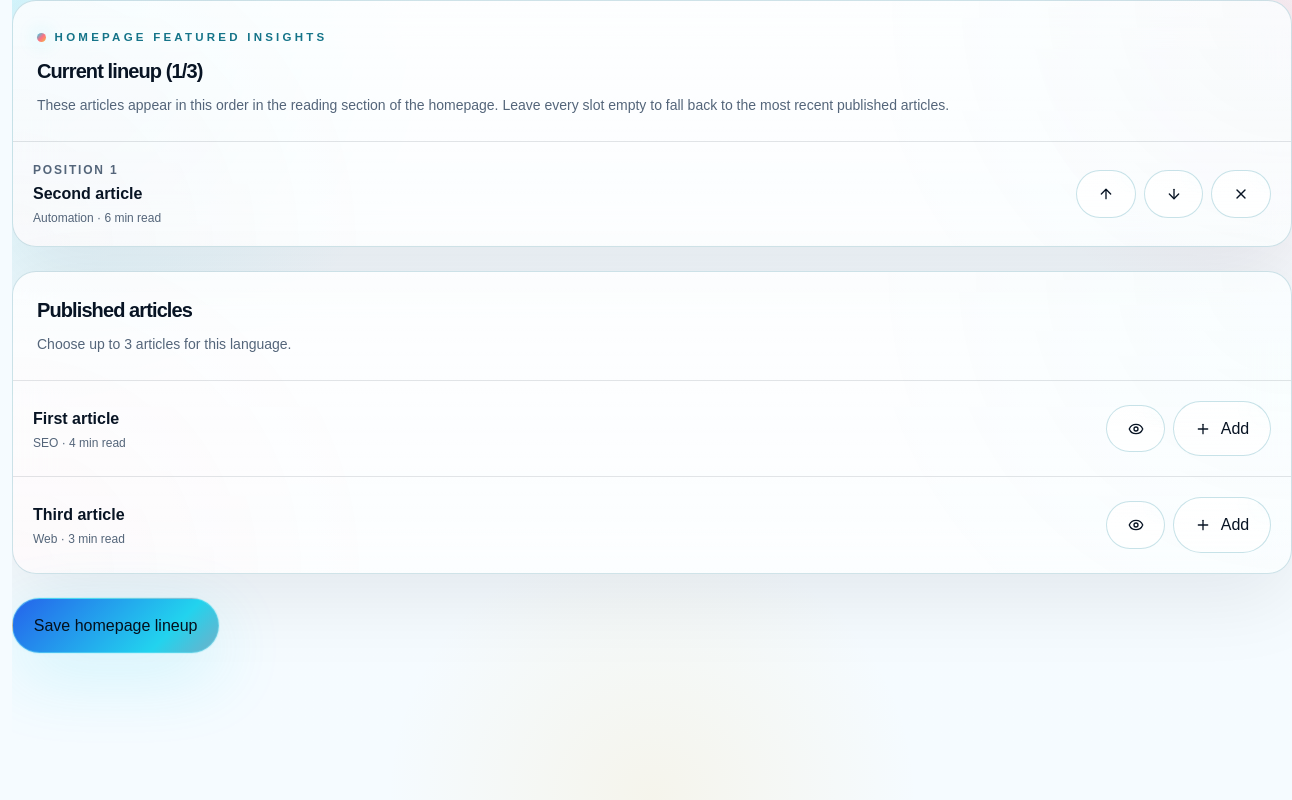
Scenario: homepage lineup manager › removes an article and reports when the lineup is empty
Click the button named "Remove Second article from the homepage" at [1241, 194], box [1211,170,1271,218]
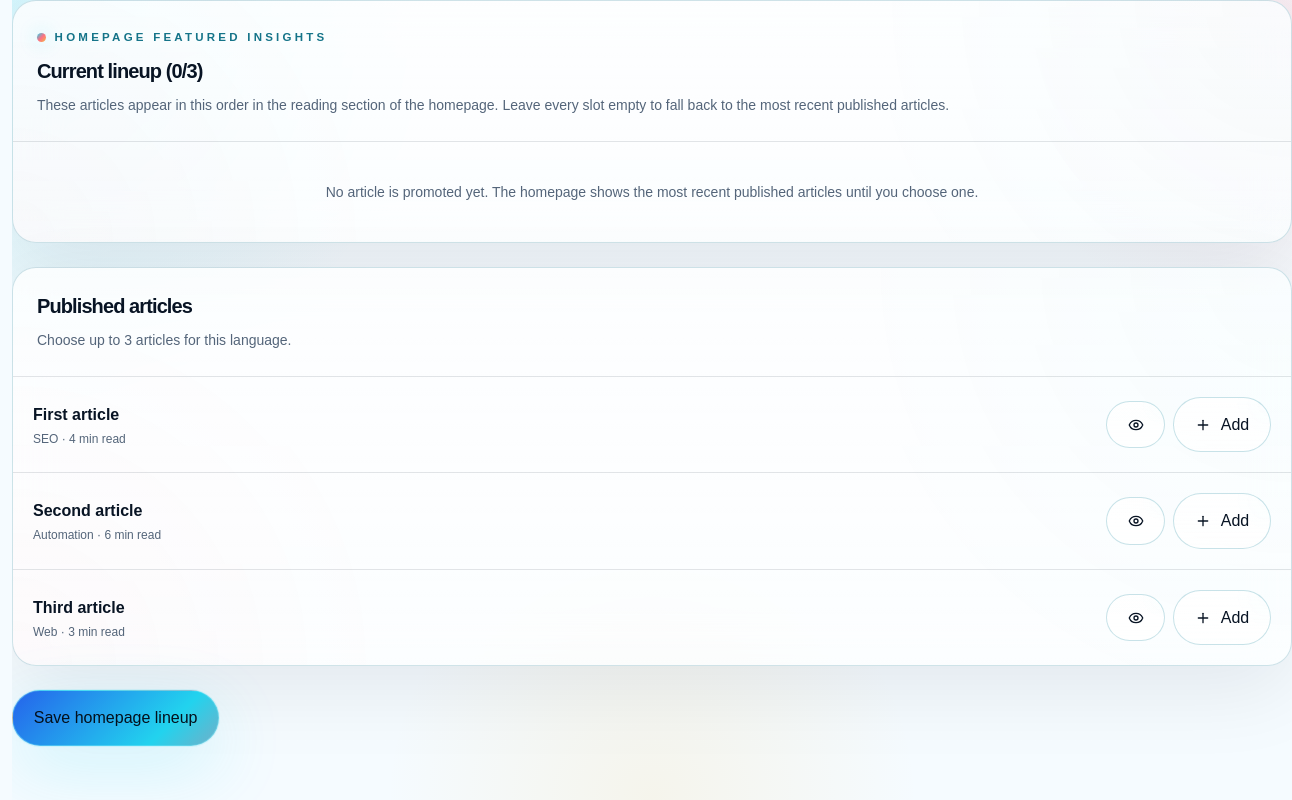
Check: the text "No article is promoted yet" is shown, box [326,184,978,200]
